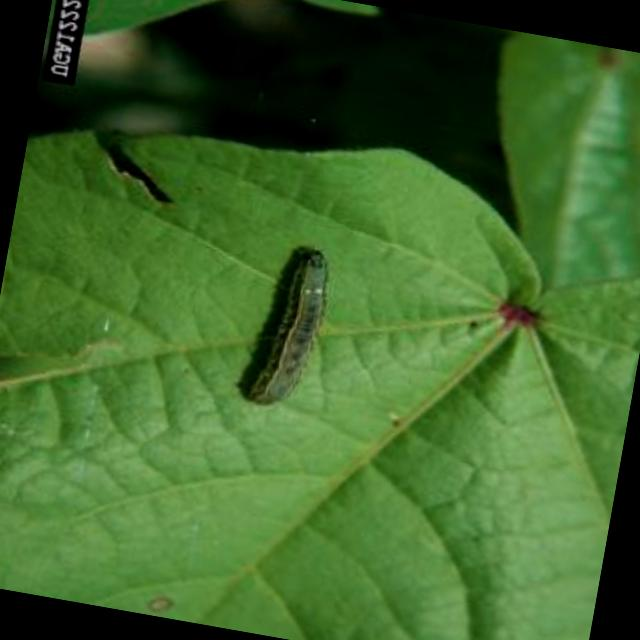Beet armyworm: (196, 220, 370, 430)
